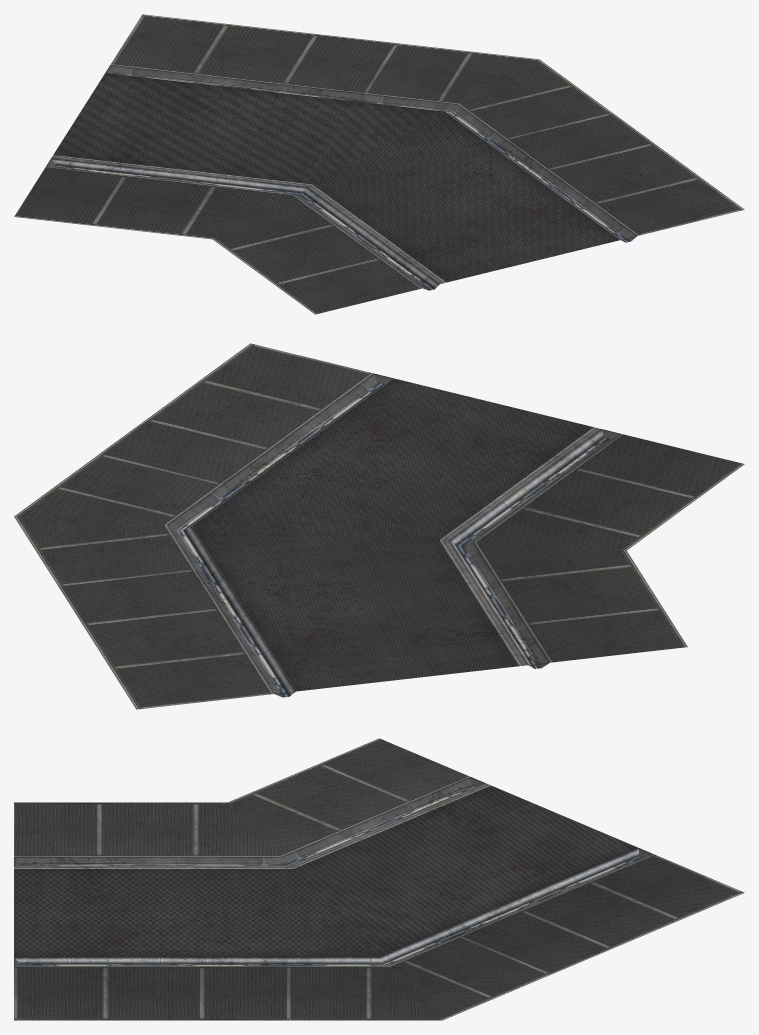
Rendered from Floor_B_5mts_08.fbx.
The picture shows the model from 3 angles, top to bottom: view 1: azimuth 30°, elevation 25°; view 2: azimuth 150°, elevation 25°; view 3: azimuth 270°, elevation 25°; orthographic projection. The views are drawn at different scales.
Parts seen in each view (by area): view 1: Floor_B_5mts_08; view 2: Floor_B_5mts_08; view 3: Floor_B_5mts_08.
Boxes of the visible parts, bbox=[...] form: Floor_B_5mts_08: bbox=[14, 14, 744, 314]; Floor_B_5mts_08: bbox=[14, 343, 744, 709]; Floor_B_5mts_08: bbox=[14, 738, 744, 1020].
Size of the model in its own units: 646 by 4.45 by 707.
Materials: 1 (1 with a texture image).
